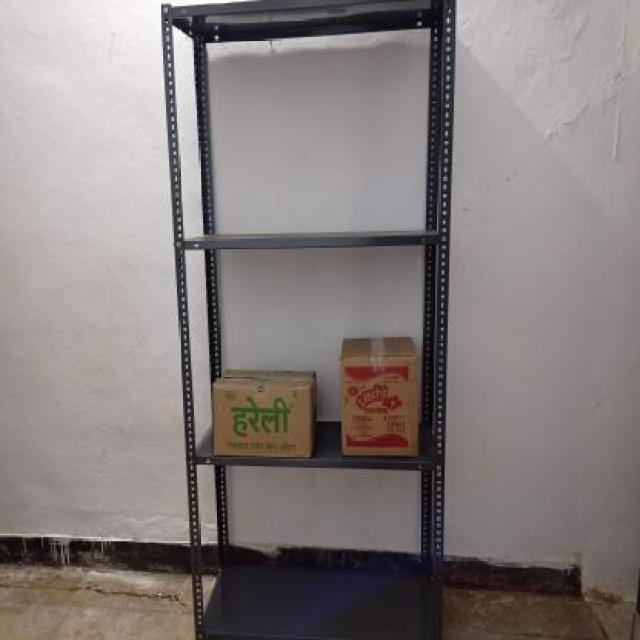box: (340, 356, 420, 456), (211, 384, 314, 459)
